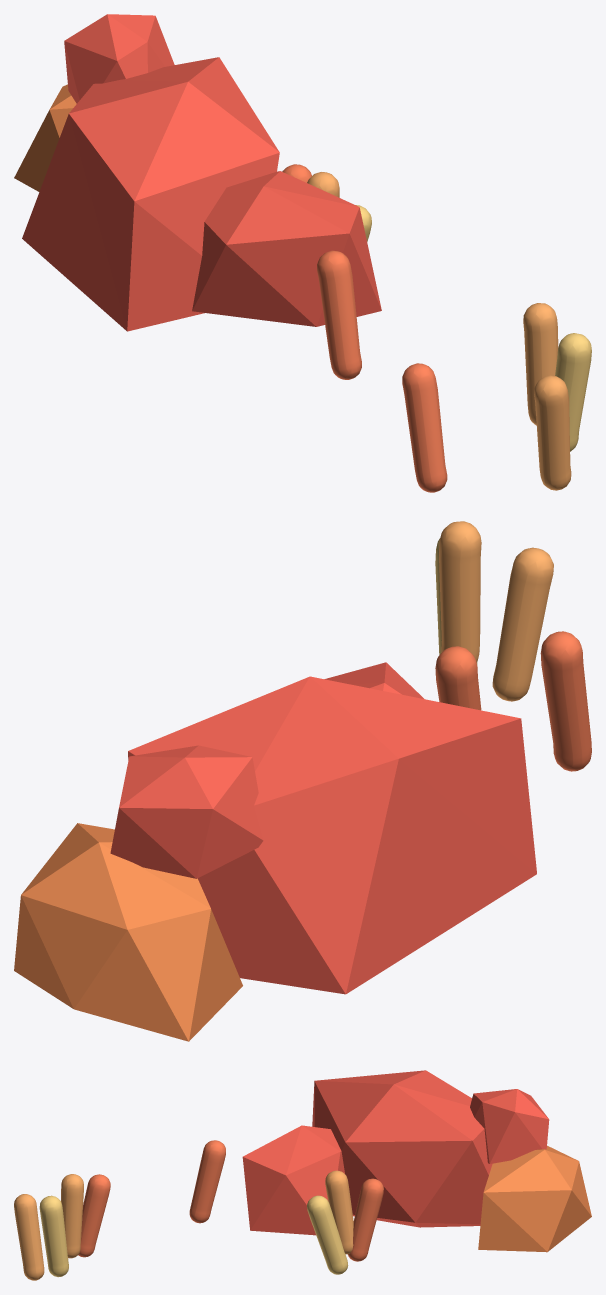
The model's file is buisson.glb.
The picture shows the model from 3 angles, top to bottom: view 1: azimuth 30°, elevation 25°; view 2: azimuth 150°, elevation 25°; view 3: azimuth 270°, elevation 25°; orthographic projection. The views are drawn at different scales.
Visible parts, largest first — view 1: Icosphere.001, Icosphere.006, Icosphere.004, Mball.007, Mball.005, Mball.008, Mball.006, Icosphere.009, Mball.004; view 2: Icosphere.001, Icosphere.009, Icosphere.004, Mball.008, Mball.007, Mball.006, Mball.005, Icosphere.006; view 3: Icosphere.001, Icosphere.009, Icosphere.006, Icosphere.004, Mball.008, Mball.005, Mball.003, Mball.004, Mball.002, Mball.007, Mball.006, Mball.001.
Part boxes in pixels (x1,y1,x2,y2): Icosphere.001: (22,57,279,331); Icosphere.006: (192,171,381,326); Icosphere.004: (64,14,174,103); Mball.007: (402,363,447,492); Mball.005: (317,250,361,379); Mball.008: (534,375,571,490); Mball.006: (523,303,558,425); Icosphere.009: (14,84,76,191); Mball.004: (555,333,591,451); Icosphere.001: (128,676,536,994); Icosphere.009: (14,823,242,1041); Icosphere.004: (110,745,263,878); Mball.008: (492,547,553,701); Mball.007: (540,631,591,771); Mball.006: (439,521,481,662); Mball.005: (435,646,481,710); Icosphere.006: (324,662,423,698); Icosphere.001: (312,1070,492,1227); Icosphere.009: (478,1145,591,1252); Icosphere.006: (242,1125,344,1235); Icosphere.004: (470,1089,549,1163); Mball.008: (14,1194,44,1280); Mball.005: (189,1140,225,1223); Mball.003: (307,1195,348,1274); Mball.004: (39,1195,68,1277); Mball.002: (348,1178,383,1261); Mball.007: (78,1174,110,1257); Mball.006: (61,1174,83,1258); Mball.001: (325,1170,353,1254).
Bounding box in the file's own units: 2.65 × 2.3 × 7.23.
